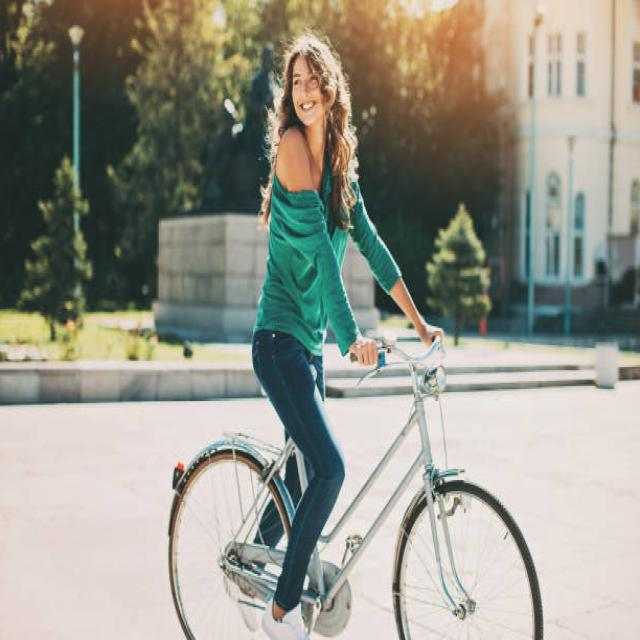bicycle: (169, 32, 542, 639)
